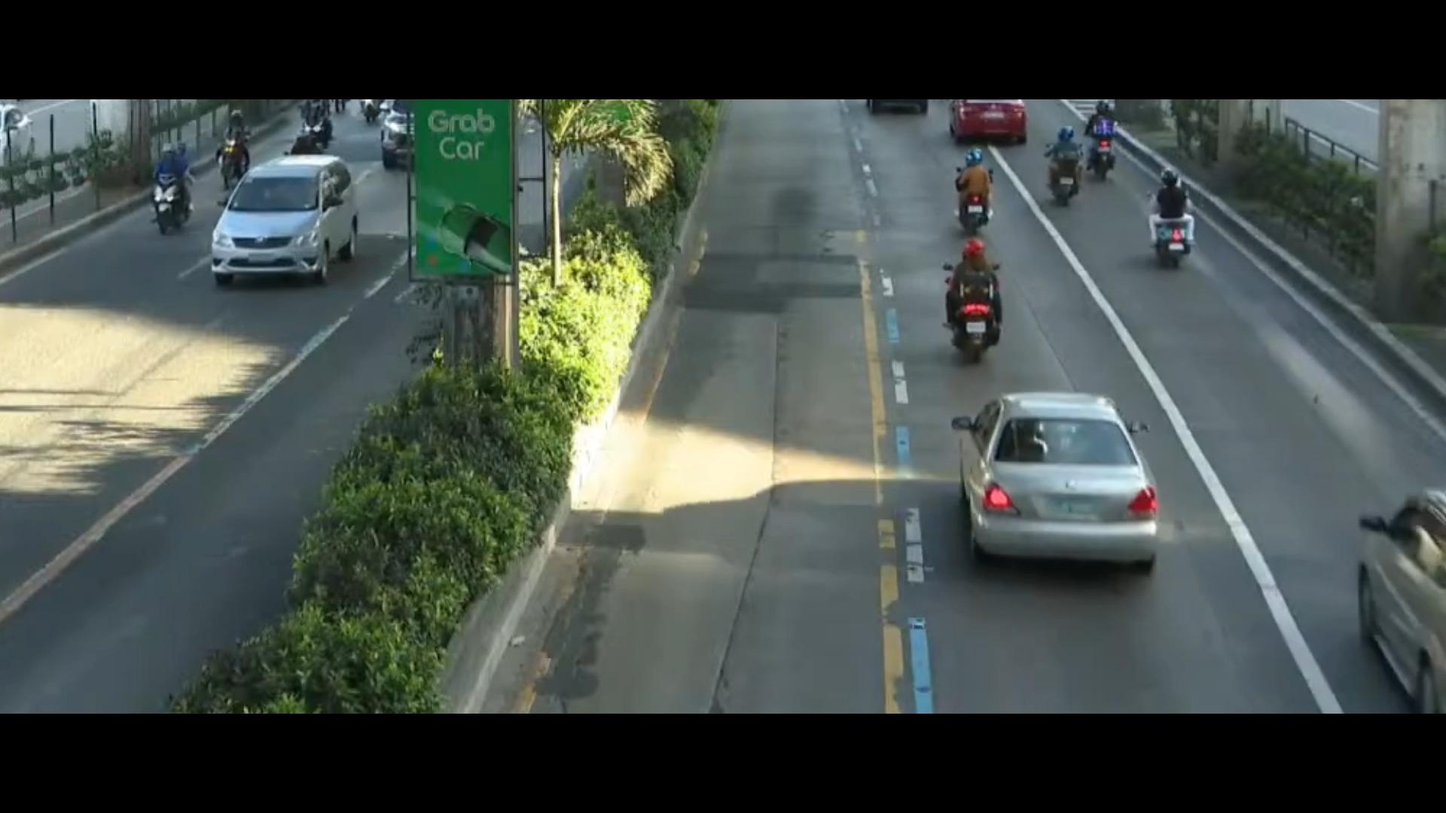Motorcycle: (906, 217, 1051, 384), (123, 134, 207, 242), (1144, 164, 1226, 272), (936, 140, 1006, 247), (222, 111, 272, 194), (1081, 106, 1131, 186), (1052, 128, 1096, 217), (307, 85, 349, 140)
SUV: (165, 149, 377, 304)
Sedan: (917, 341, 1171, 587)
